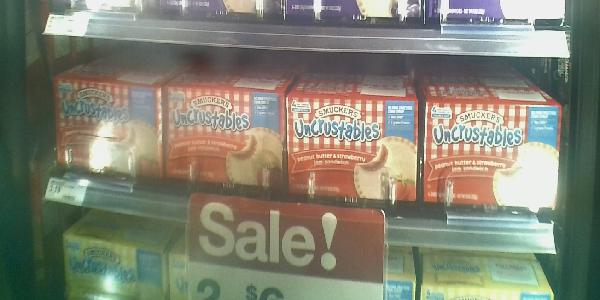icecream: (287, 85, 420, 205), (421, 94, 560, 208), (164, 77, 289, 200), (49, 70, 164, 189)
